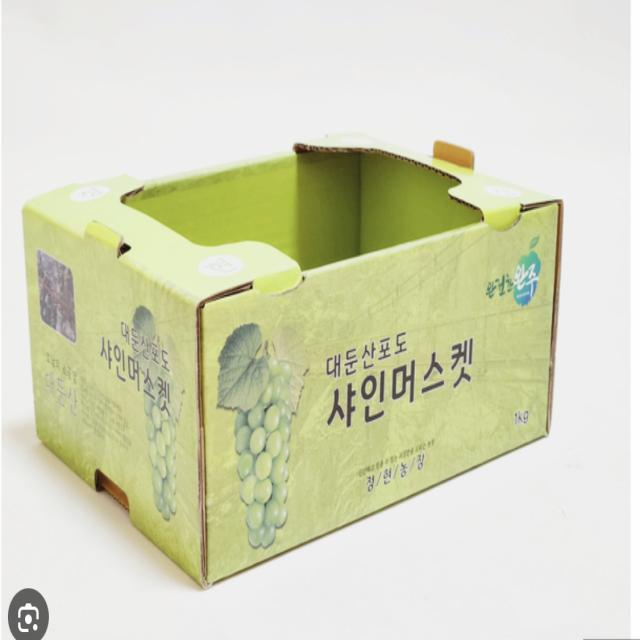biodegradable: (13, 85, 602, 612)
